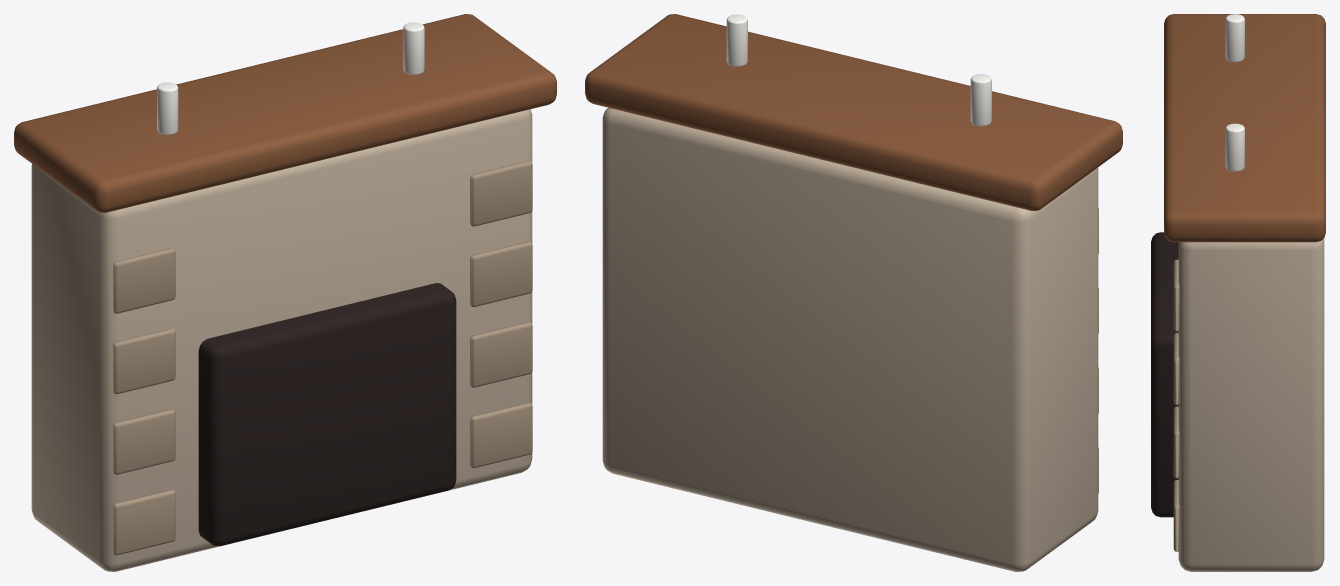
The model's file is cheminee.glb.
The picture shows the model from 3 angles, left to right: view 1: azimuth 30°, elevation 25°; view 2: azimuth 150°, elevation 25°; view 3: azimuth 270°, elevation 25°; orthographic projection. The views are drawn at different scales.
Visible parts, largest first — view 1: massif, foyer, linteau, pierre1_3, pierre1_1, pierre0_3, pierre1_0, pierre1_2, pierre0_0, pierre0_1, pierre0_2, bougie0 (+1 smaller); view 2: massif, linteau, bougie1, bougie0; view 3: massif, linteau, foyer, bougie1, bougie0, pierre1_1, pierre1_3, pierre1_0, pierre1_2.
Part boxes in pixels (x1,y1,x2,y2): massif: (31,109,532,571); foyer: (198,283,456,546); linteau: (14,14,556,212); pierre1_3: (470,161,532,226); pierre1_1: (470,322,532,387); pierre0_3: (113,248,175,313); pierre1_0: (470,402,532,468); pierre1_2: (470,241,532,306); pierre0_0: (113,490,175,555); pierre0_1: (113,409,175,474); pierre0_2: (113,328,175,394); bougie0: (157,82,178,135); massif: (602,107,1098,571); linteau: (585,14,1122,210); bougie1: (726,14,747,66); bougie0: (970,74,991,126); massif: (1178,238,1324,571); linteau: (1164,14,1325,242); foyer: (1151,232,1178,517); bougie1: (1225,123,1244,171); bougie0: (1225,14,1244,62); pierre1_1: (1173,406,1179,478); pierre1_3: (1173,259,1179,331); pierre1_0: (1173,480,1179,551); pierre1_2: (1173,333,1179,404).
Bounding box in the file's own units: 1.5 × 1.39 × 0.54.
